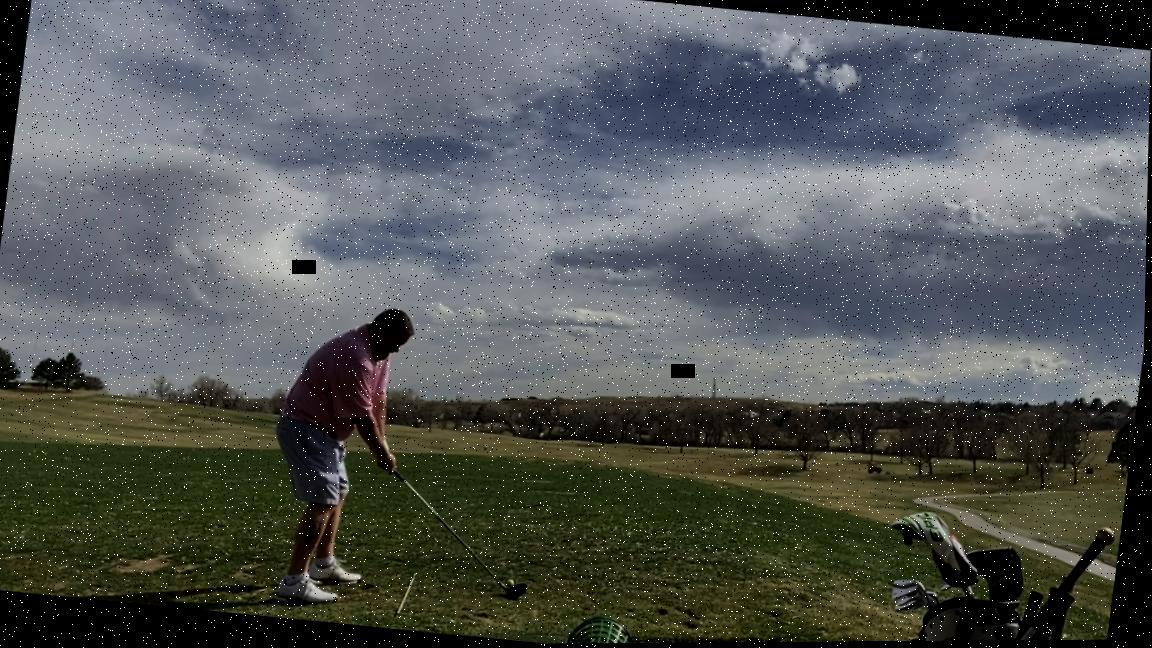ClubHead: (495, 574, 536, 606)
